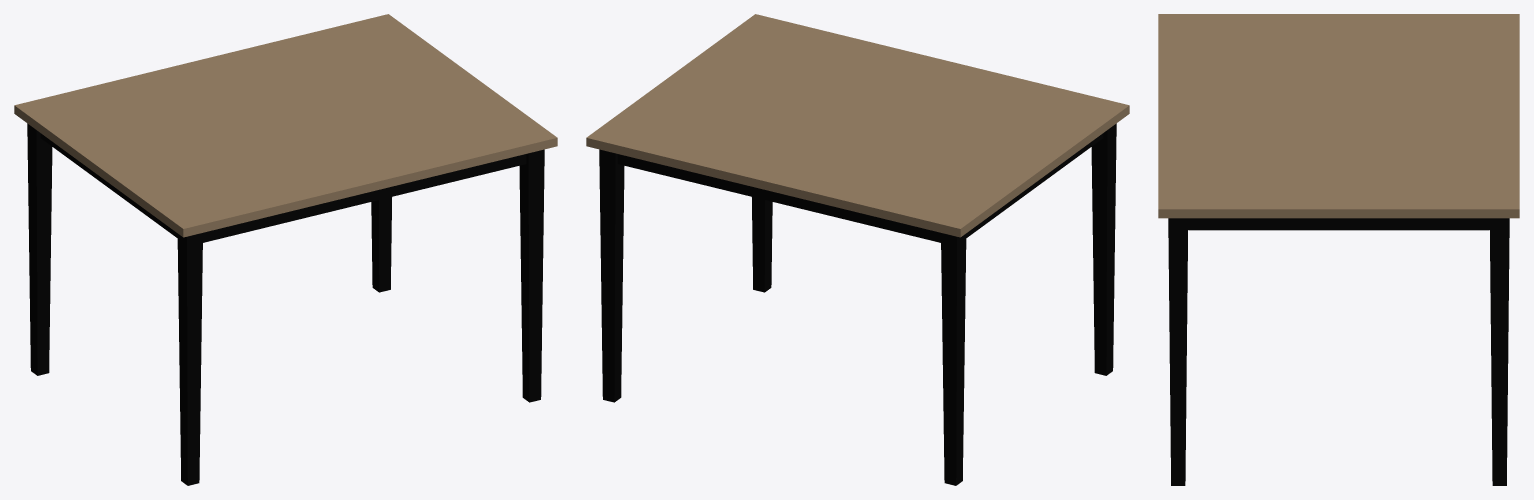
The model's file is Table1.fbx.
3 views of the same model, side by side, from view 1: azimuth 30°, elevation 25°; view 2: azimuth 150°, elevation 25°; view 3: azimuth 270°, elevation 25° (orthographic). The views are drawn at different scales.
Visible parts, largest first — view 1: Table; view 2: Table; view 3: Table.
Boxes of the visible parts, x1,y1,x2,y2 form: Table: (14,14,557,485); Table: (586,14,1129,485); Table: (1158,14,1519,485).
Size of the model in its own units: 230 by 155 by 180.
